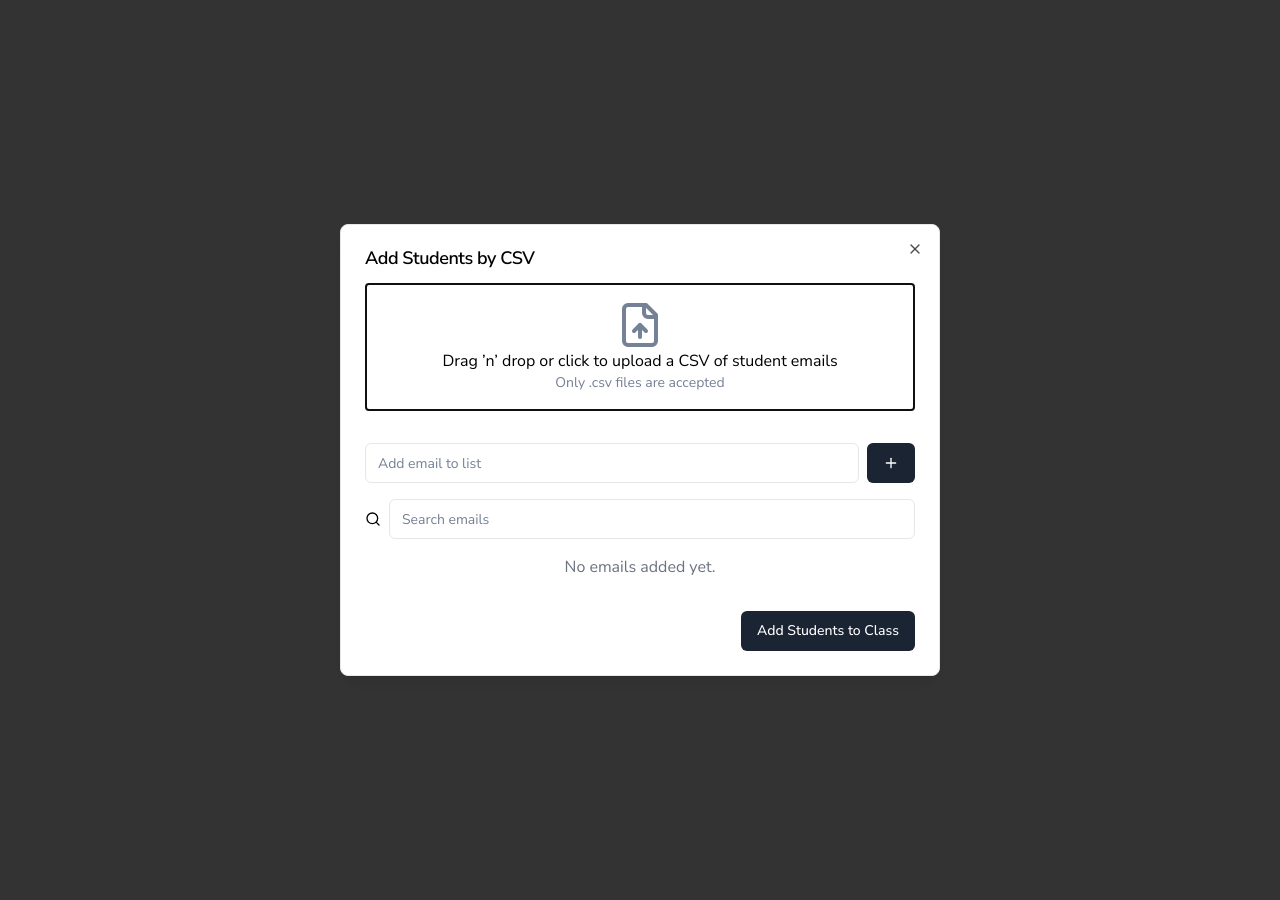
it: AddStudentsByCSVDialog › removes an email from the list
Type "test@example.com" into the field with placeholder "Add email to list". click: [612, 463]
box: [365,443,859,483]
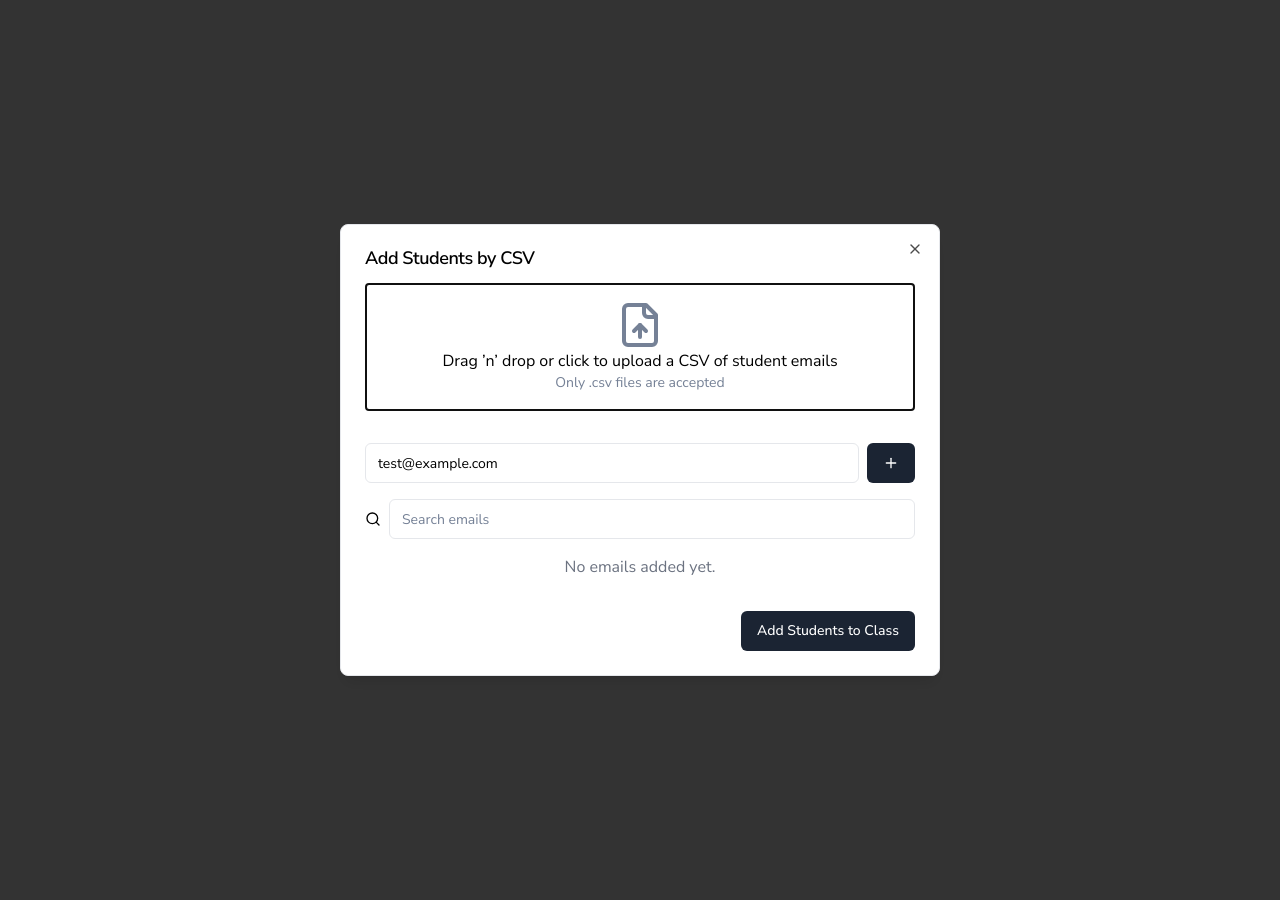
Press Enter in the field with placeholder "Add email to list", box [365,443,859,483]
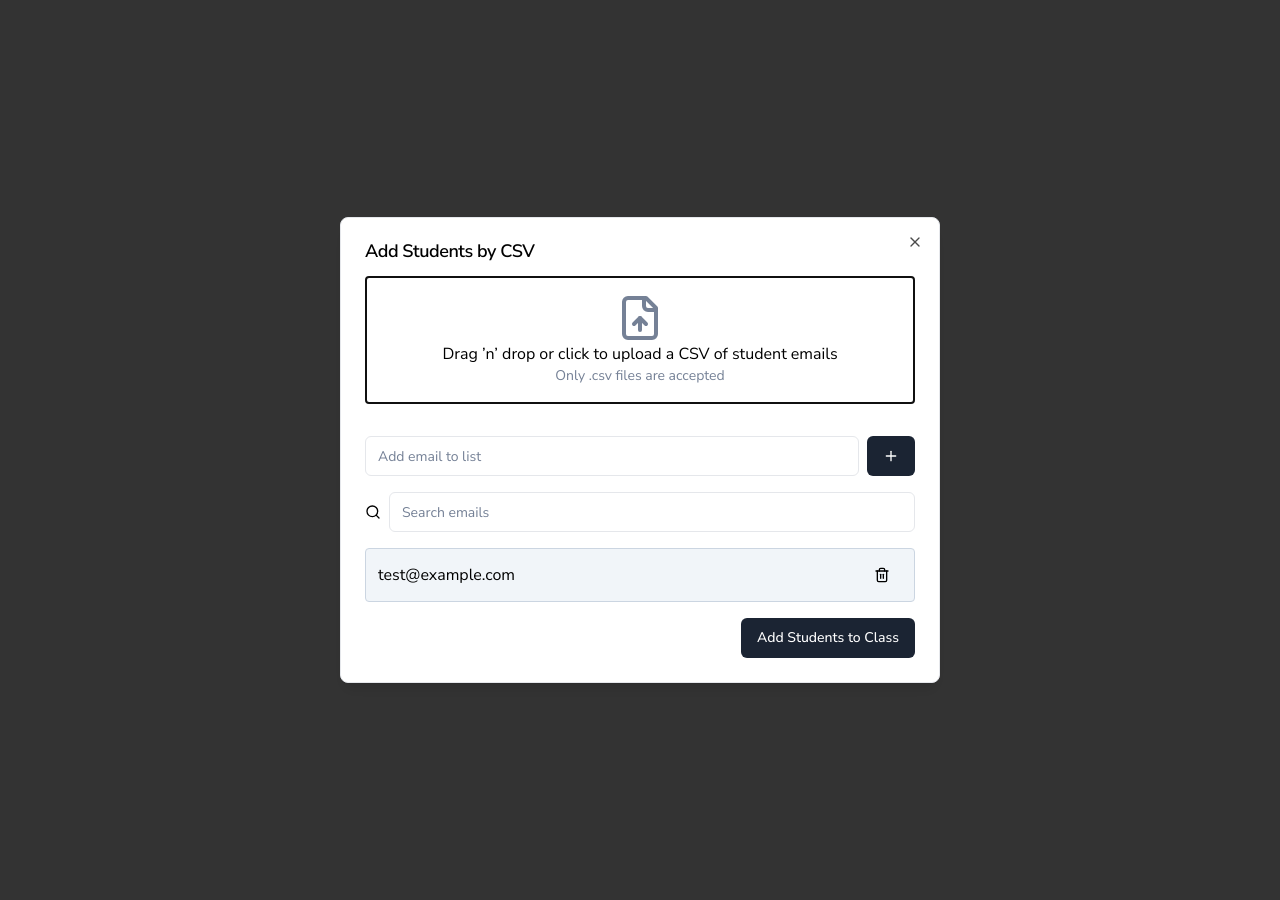
Click the button with test id "remove-email-button". click: [882, 575]
box: [862,557,902,593]
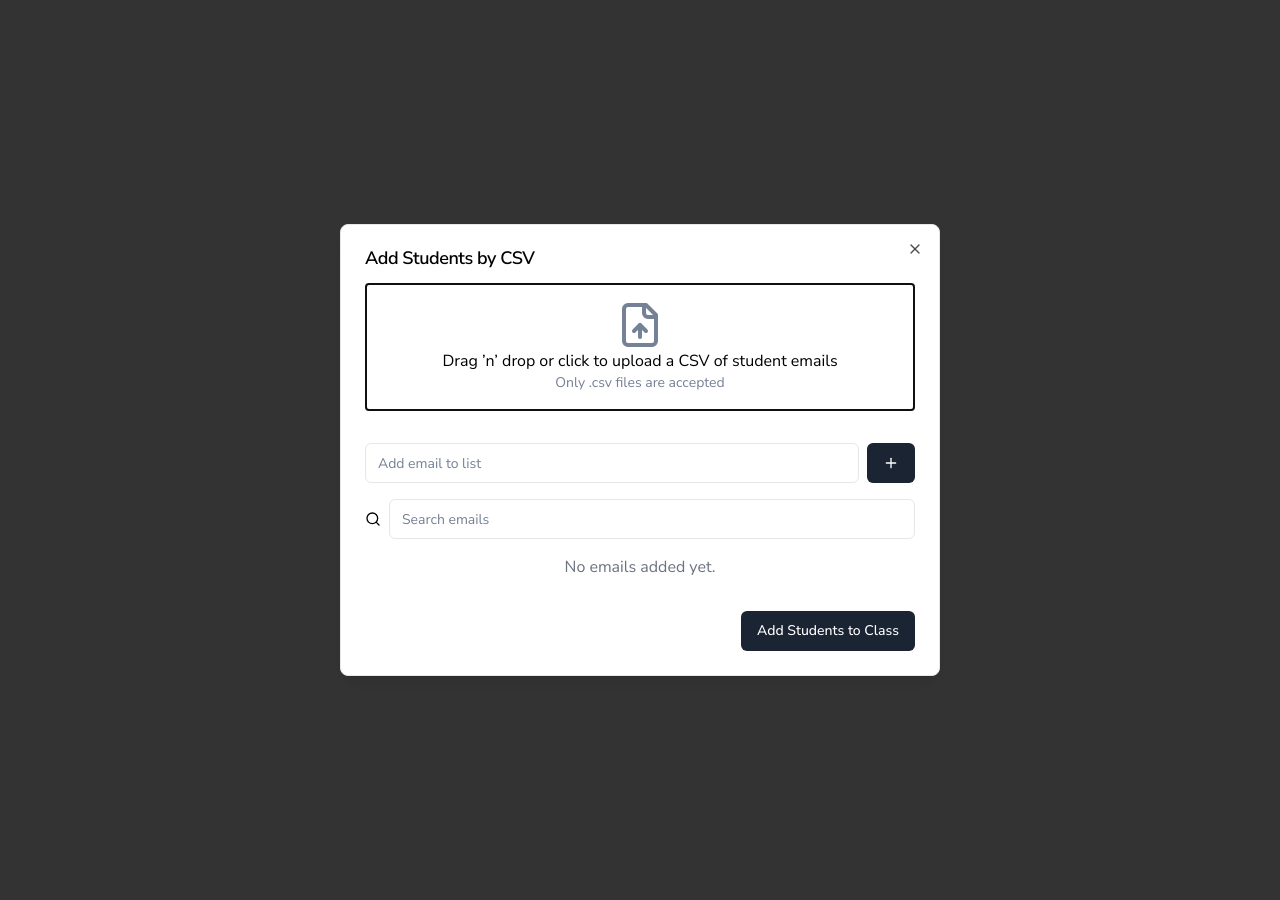
Result: the list item "test@example.com" is gone
